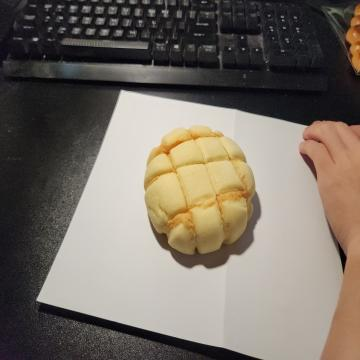melon_bread: (143, 124, 255, 255)
